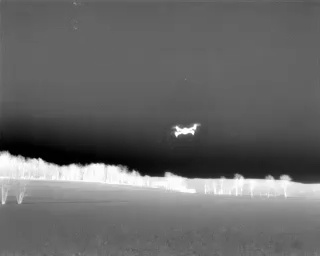DRONE: (168, 119, 204, 143)
